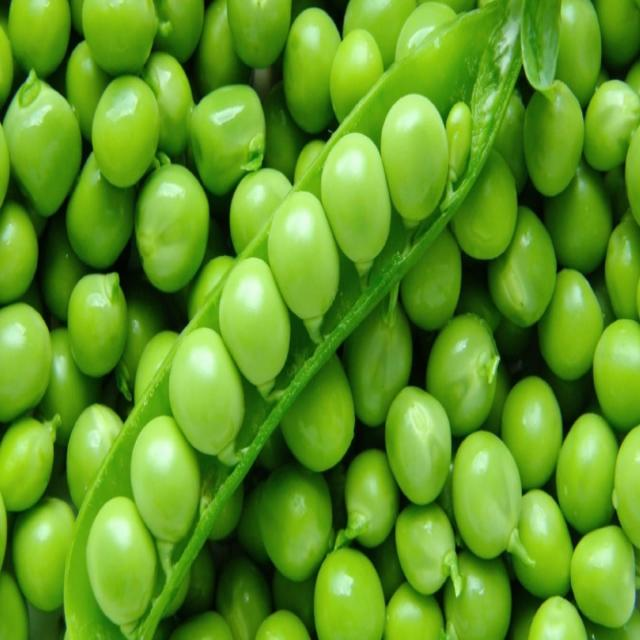arvejas: (1, 5, 640, 631)
